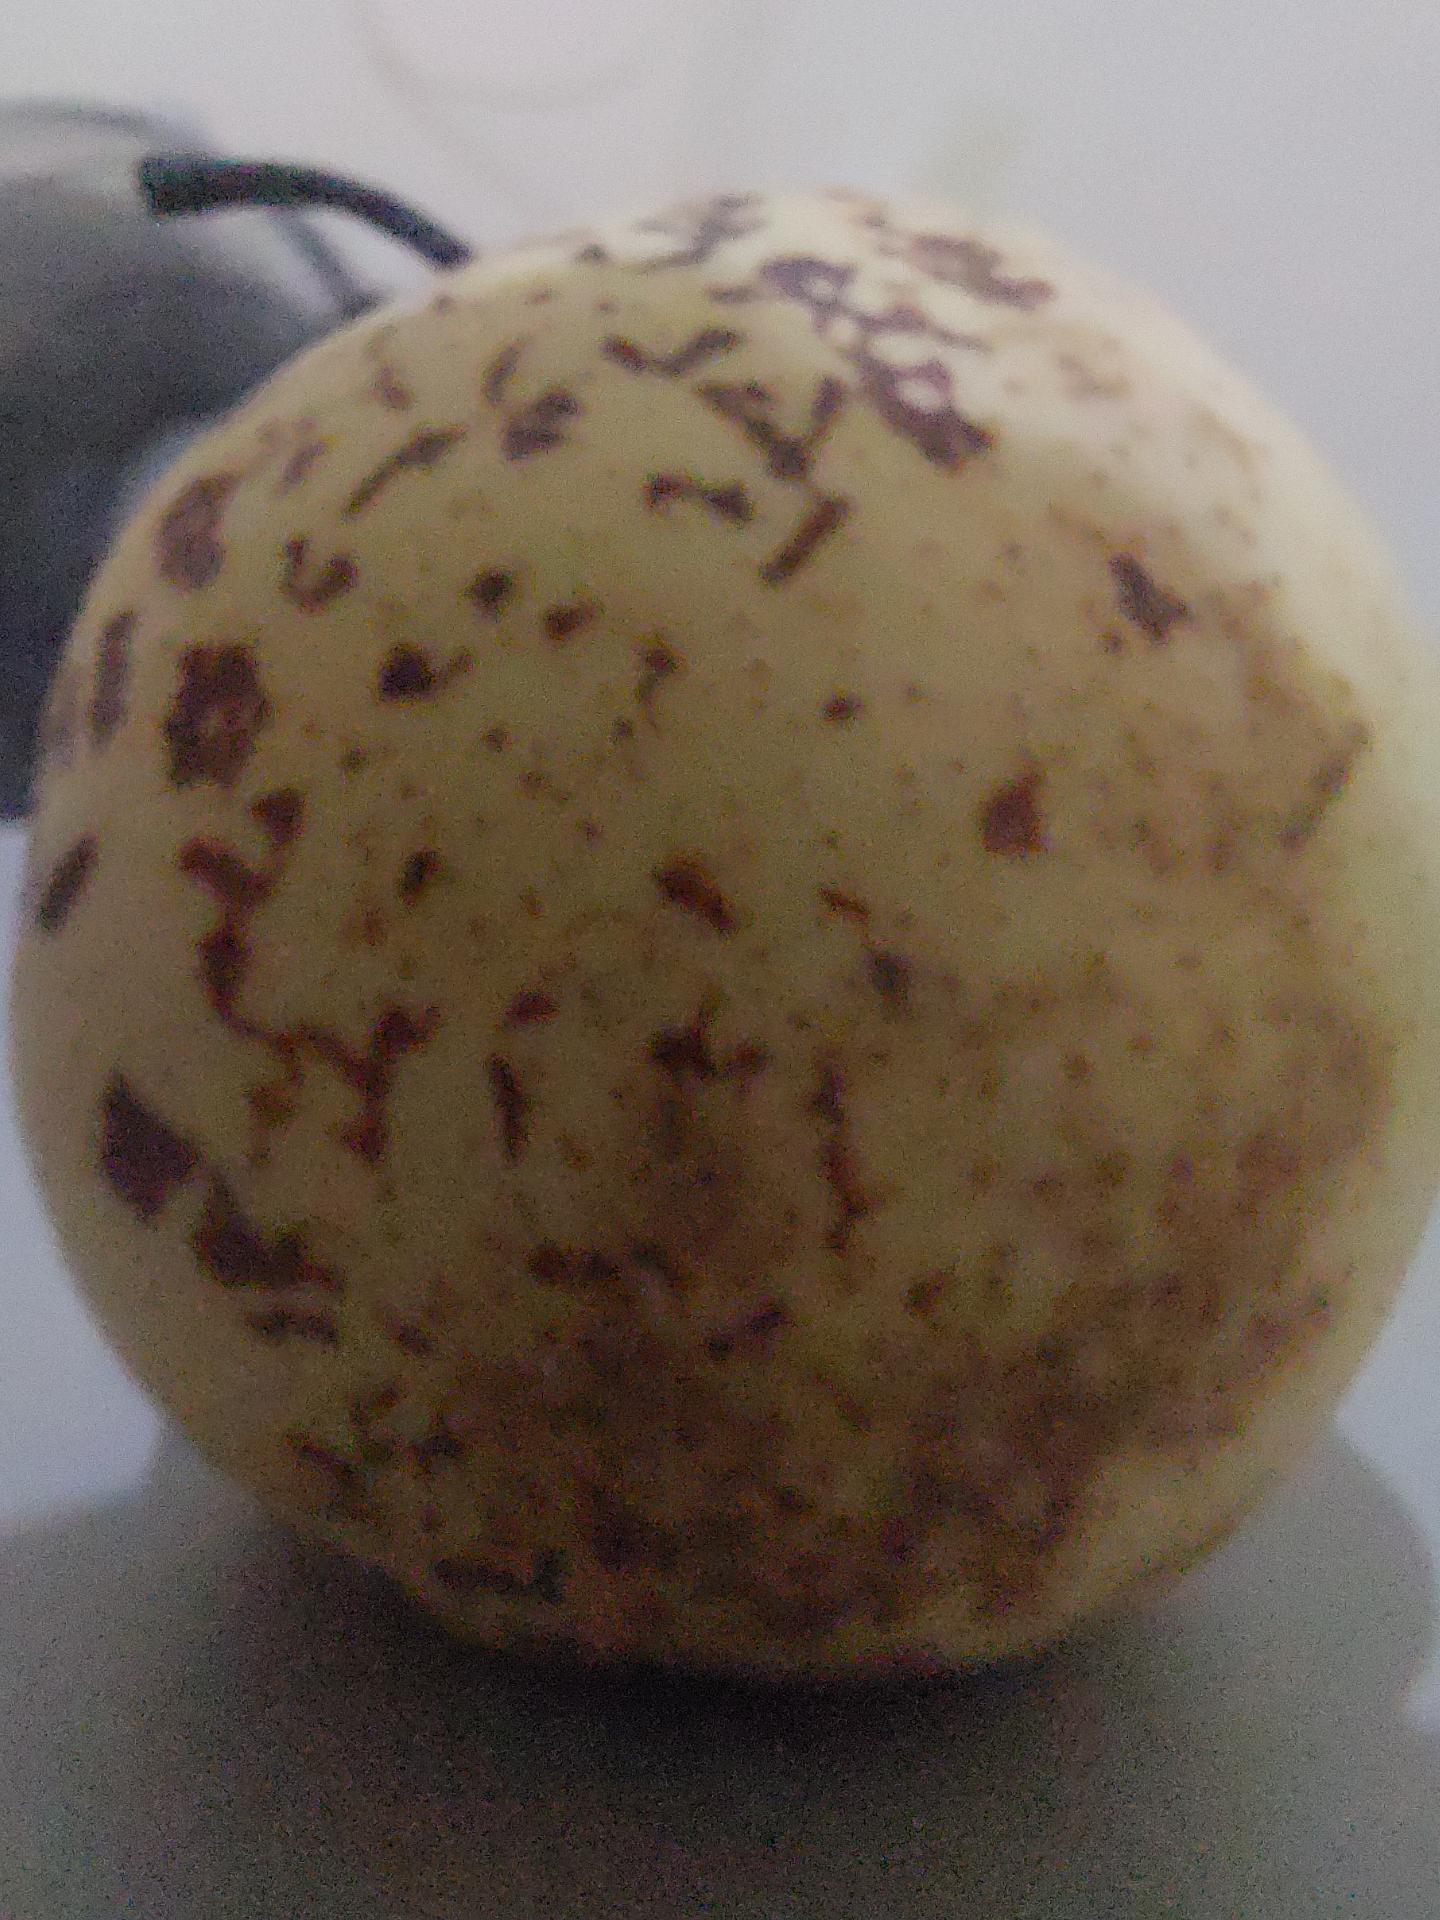Bad Pear: (0, 147, 1426, 1695)
